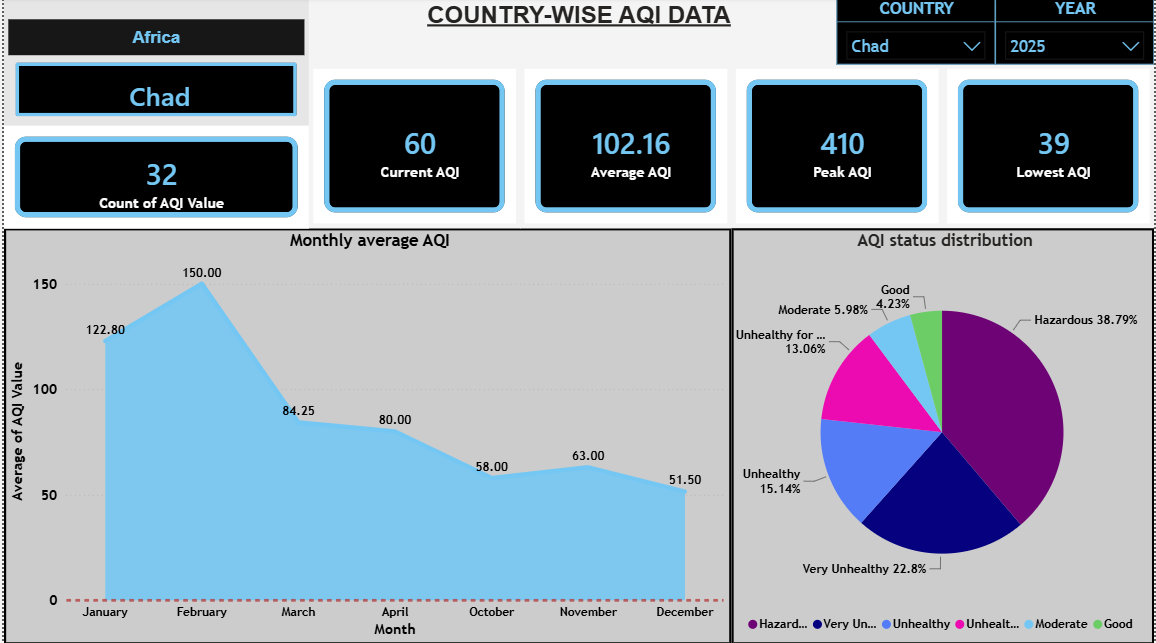

The dashboard page shown, as its layout file describes it:
{"tool":"powerbi","page":{"name":"Page 2","canvas":[1280,720],"ordinal":1},"visuals":[{"type":"textbox","box":[0,0,1280,75.1],"z":0},{"type":"stackedAreaChart","title":"Monthly average AQI","fields":{"Category":["AQI_Data.Date.Variation.Date Hierarchy.Month"],"Y":["Avg(AQI_Data.AQI Value)"]},"box":[0,257.4,809.7,463.3],"z":1000},{"type":"cardVisual","fields":{"Rows":["AQI_Data.Continent"],"Data":["Min(AQI_Data.Country)"]},"box":[0,0,339.5,167],"z":2000},{"type":"cardVisual","fields":{"Data":["AQI_Data.Highest AQI"]},"box":[809.7,75.1,235.1,182.3],"z":3000},{"type":"cardVisual","fields":{"Data":["AQI_Data.Average AQI"]},"box":[574.6,75.1,235.1,182.3],"z":4000},{"type":"cardVisual","fields":{"Data":["AQI_Data.Highest AQI"]},"box":[968.3,257.4,235.1,182.3],"z":5000},{"type":"cardVisual","fields":{"Data":["AQI_Data.Lowest AQI"]},"box":[1044.9,75.1,235.1,182.3],"z":6000},{"type":"pieChart","title":"AQI status distribution","fields":{"Category":["AQI_Data.Status"],"Y":["Avg(AQI_Data.AQI Value)"]},"box":[809.7,257.4,470.3,463.3],"z":7000},{"type":"slicer","title":"COUNTRY","fields":{"Values":["AQI_Data.Country"]},"box":[926.6,0,176.7,75.1],"z":8000},{"type":"slicer","title":"YEAR","fields":{"Values":["AQI_Data.Year"]},"box":[1103.3,0,176.7,75.1],"z":9000},{"type":"cardVisual","fields":{"Data":["CountNonNull(AQI_Data.AQI Value)"]},"box":[0,143.3,339.5,114.1],"z":10000},{"type":"cardVisual","fields":{"Data":["AQI_Data.Current AQI"]},"box":[339.5,75.1,235.1,182.3],"z":11000}]}

Visuals, with their boxes in screenshot pixels (x1, y1, x2, y2), scaled from the page's 1280x720 canvas onto the 1156x643 screenshot:
textbox: locate(0, 0, 1155, 67)
"Monthly average AQI" stackedAreaChart: locate(0, 230, 731, 642)
cardVisual - AQI_Data.Continent x Min(AQI_Data.Country): locate(0, 0, 307, 149)
cardVisual - AQI_Data.Highest AQI: locate(731, 67, 944, 230)
cardVisual - AQI_Data.Average AQI: locate(519, 67, 731, 230)
cardVisual - AQI_Data.Highest AQI: locate(874, 230, 1087, 393)
cardVisual - AQI_Data.Lowest AQI: locate(944, 67, 1155, 230)
"AQI status distribution" pieChart: locate(731, 230, 1155, 642)
"COUNTRY" slicer: locate(837, 0, 996, 67)
"YEAR" slicer: locate(996, 0, 1155, 67)
cardVisual - CountNonNull(AQI_Data.AQI Value): locate(0, 128, 307, 230)
cardVisual - AQI_Data.Current AQI: locate(307, 67, 519, 230)
